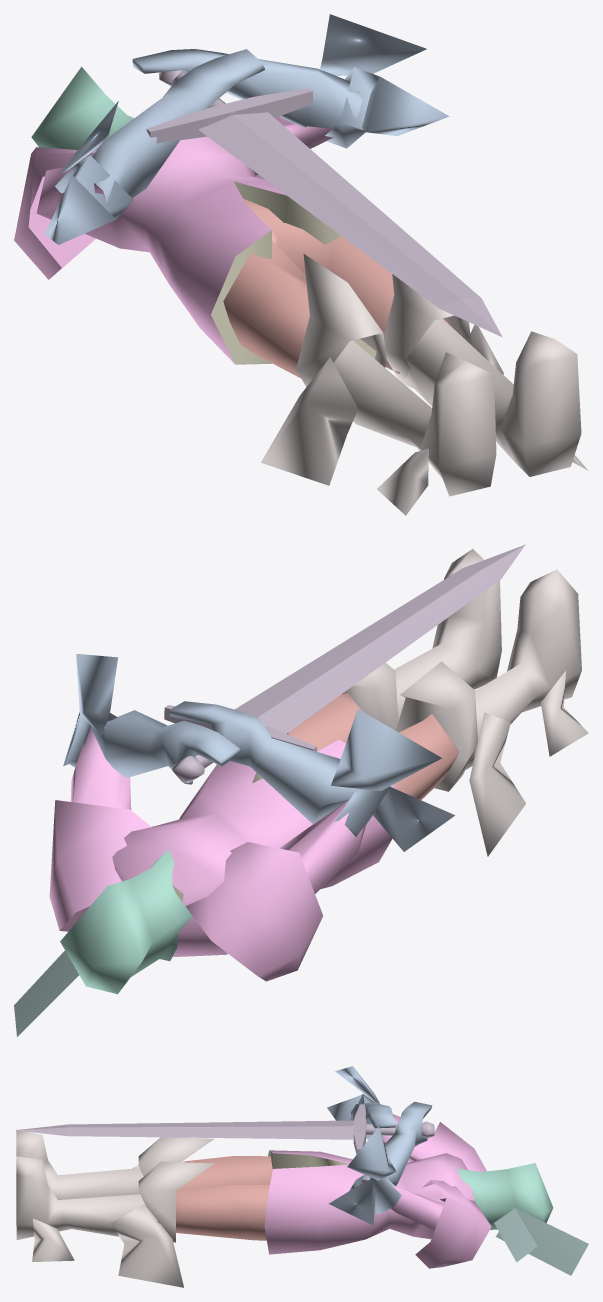
3 renders of one model, top to bottom at view 1: azimuth 30°, elevation 25°; view 2: azimuth 150°, elevation 25°; view 3: azimuth 270°, elevation 25°, orthographic. The views are drawn at different scales.
Parts seen in each view (by area): view 1: Object88; view 2: Object88; view 3: Object88.
Part boxes in pixels (<box>): Object88: <box>14,14,588,515</box>; Object88: <box>14,544,588,1036</box>; Object88: <box>15,1066,588,1287</box>.
Size of the model in its own units: 9761 by 6511 by 20540.
